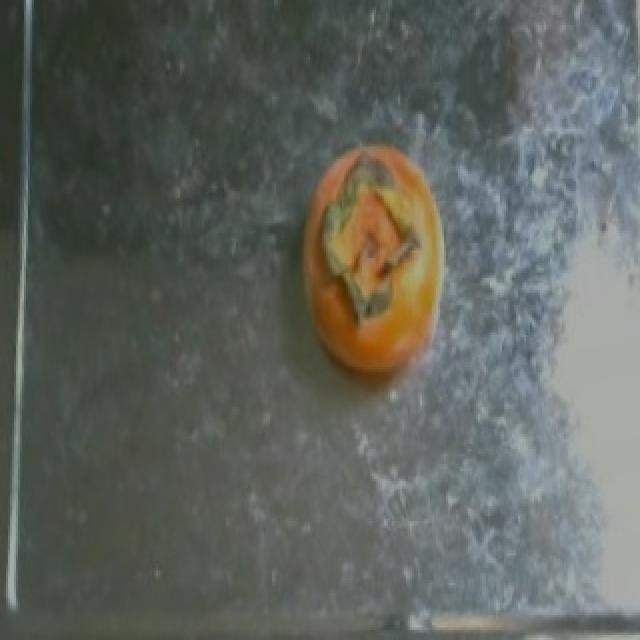Fruit: (282, 122, 470, 410)
